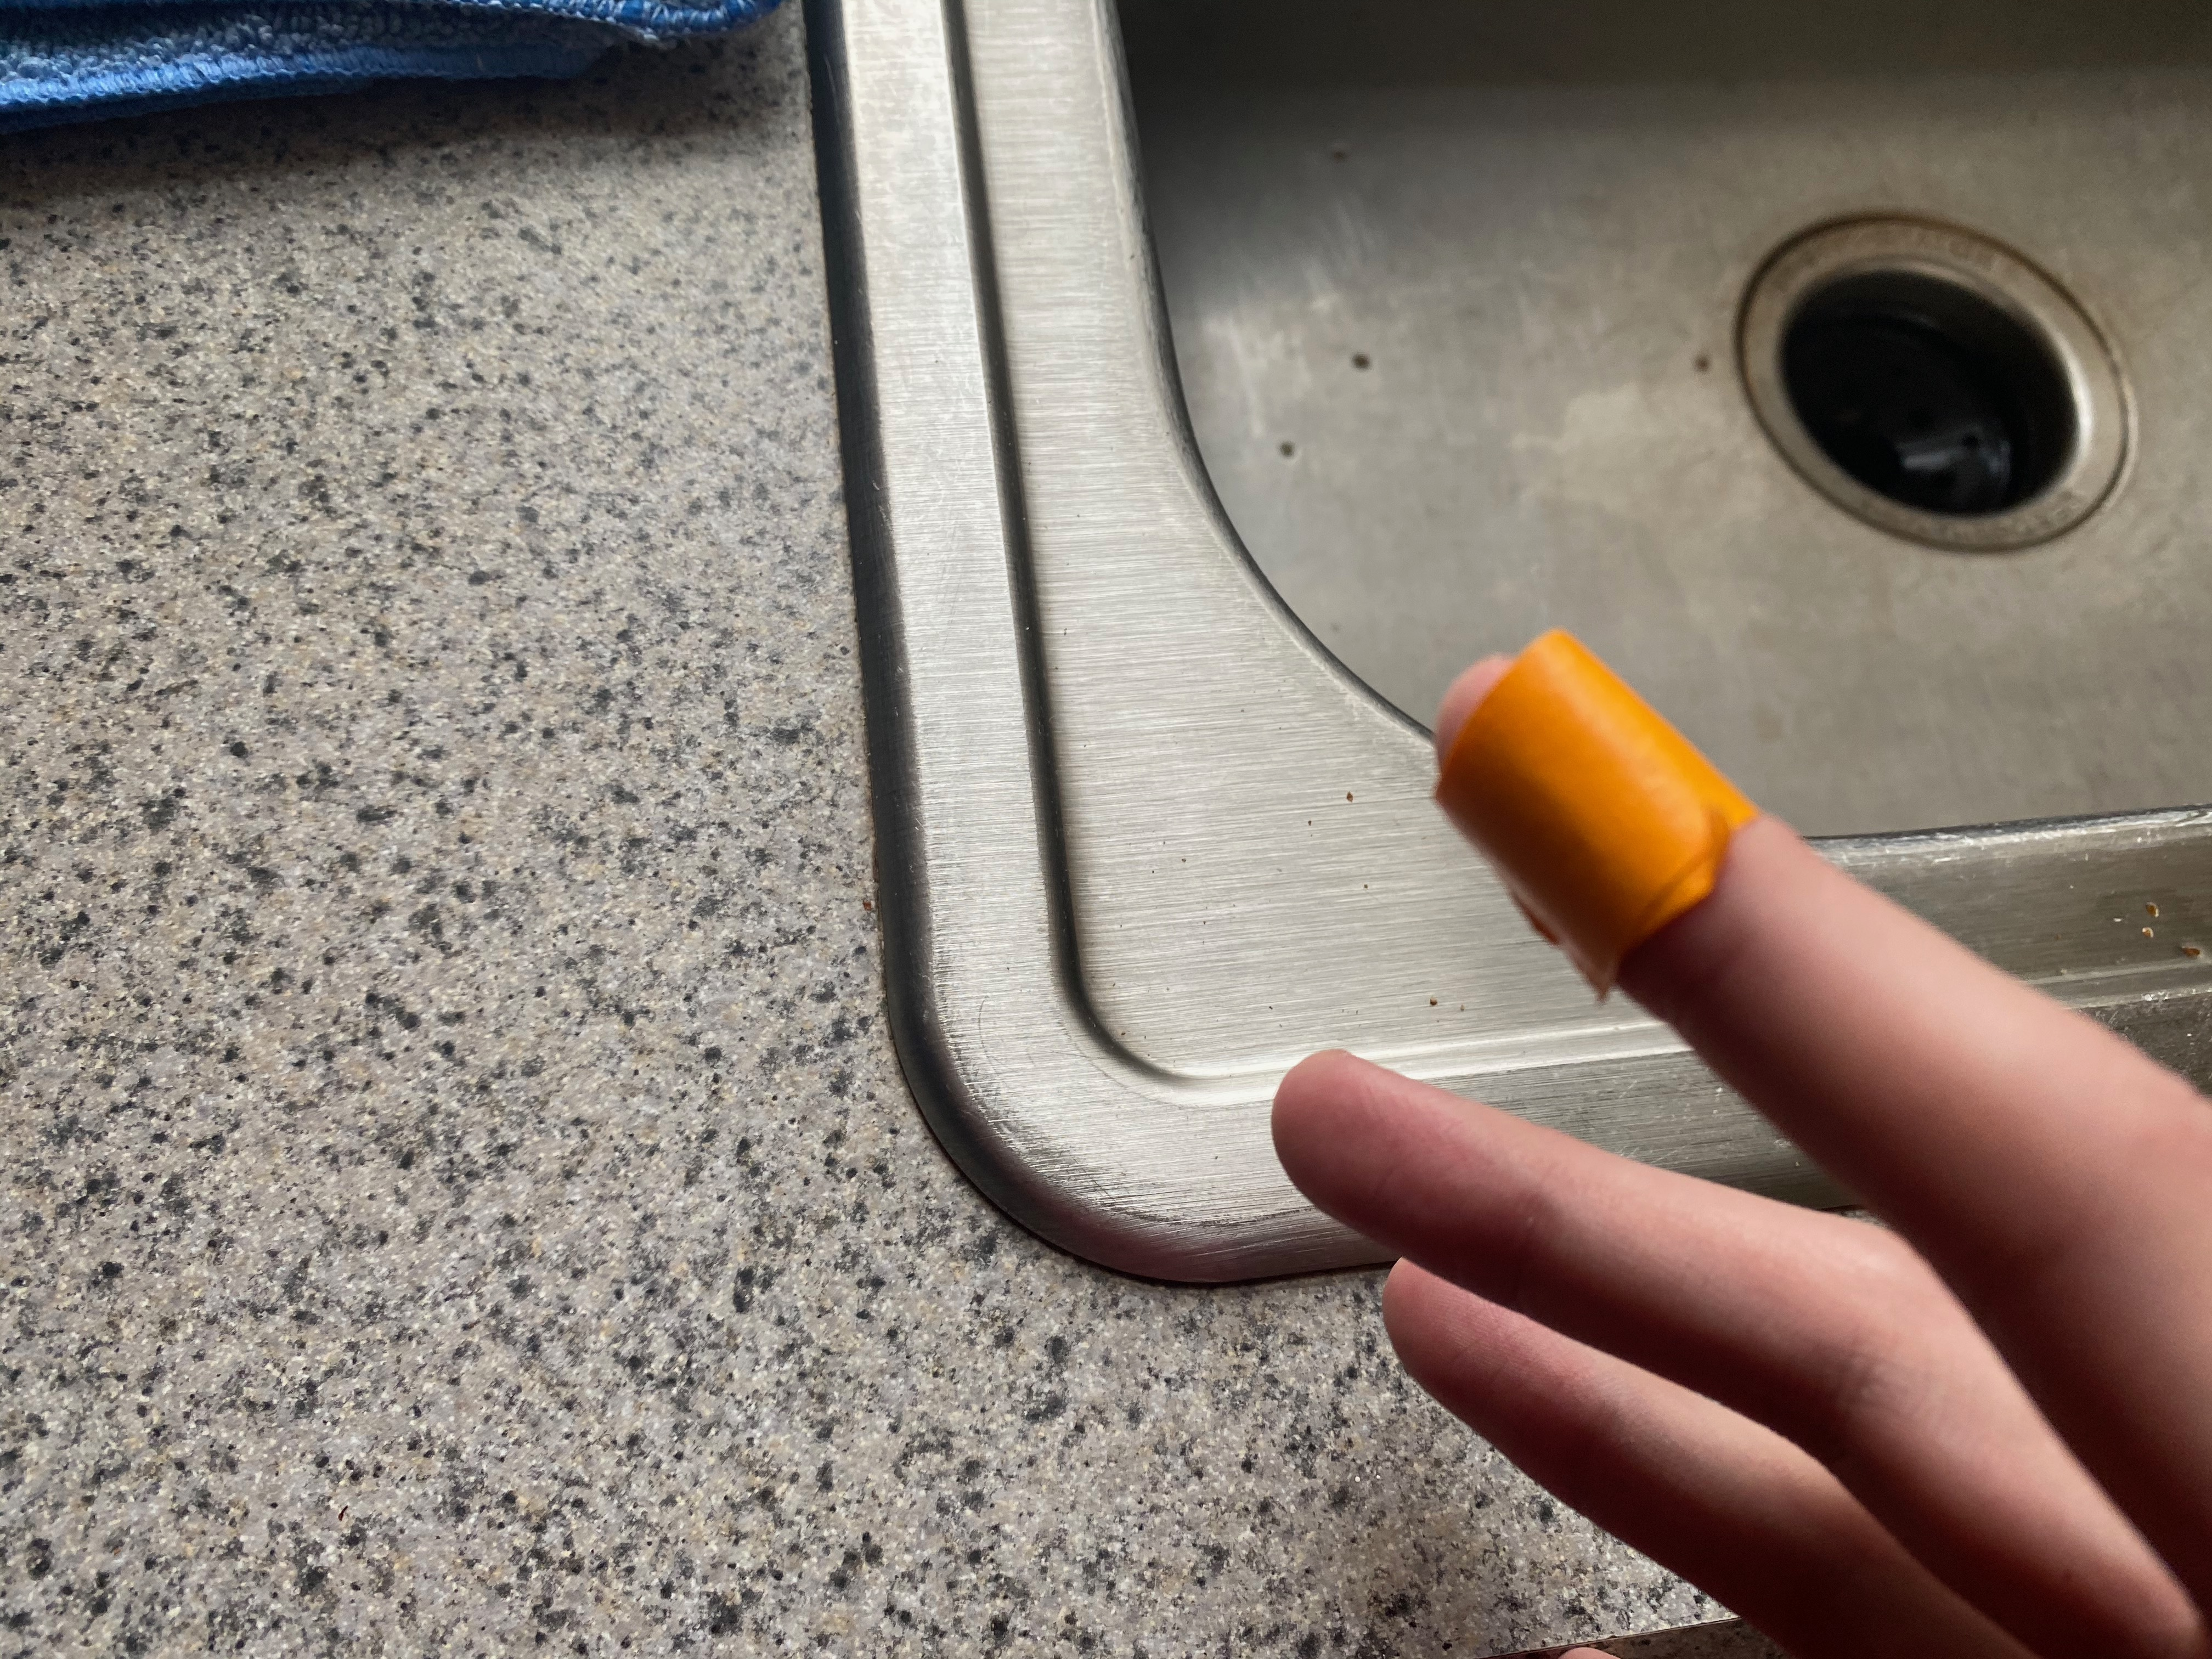fingertip: (1385, 603, 1825, 1019)
